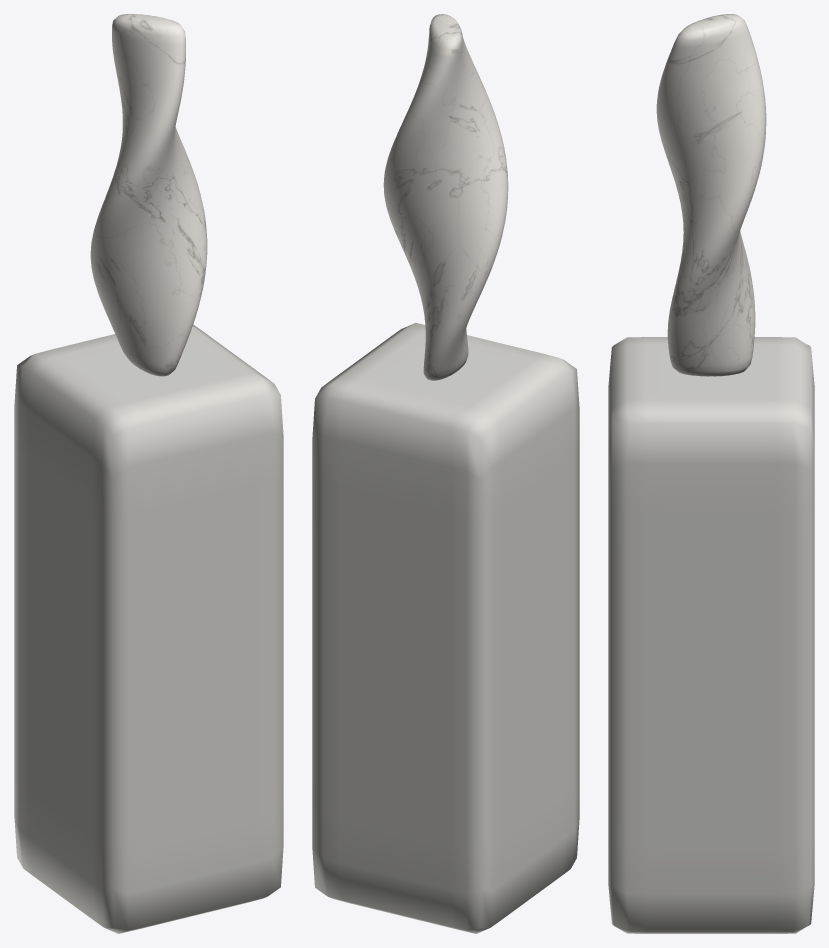
Rendered from marble-twist.glb.
3 renders of one model, left to right at view 1: azimuth 30°, elevation 25°; view 2: azimuth 150°, elevation 25°; view 3: azimuth 270°, elevation 25°, orthographic.
Parts seen in each view (by area): view 1: plinth_white, marble_sculpt; view 2: plinth_white, marble_sculpt; view 3: plinth_white, marble_sculpt.
Boxes of the visible parts, bbox=[...] form: plinth_white: bbox=[14, 324, 283, 933]; marble_sculpt: bbox=[90, 14, 207, 376]; plinth_white: bbox=[312, 323, 579, 933]; marble_sculpt: bbox=[383, 14, 508, 380]; plinth_white: bbox=[608, 337, 814, 933]; marble_sculpt: bbox=[656, 14, 766, 376].
Size of the model in its own units: 0.32 by 1.5 by 0.32.
Materials: 2 (1 with a texture image).
